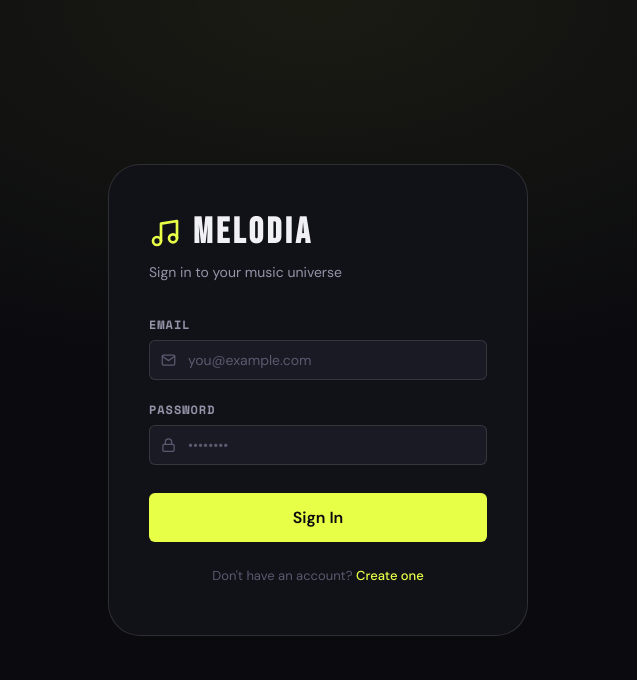
it: LoginPage › shows validation errors on empty submit
Click the button "Sign In".
click(318, 518)  # box [149,493,487,542]
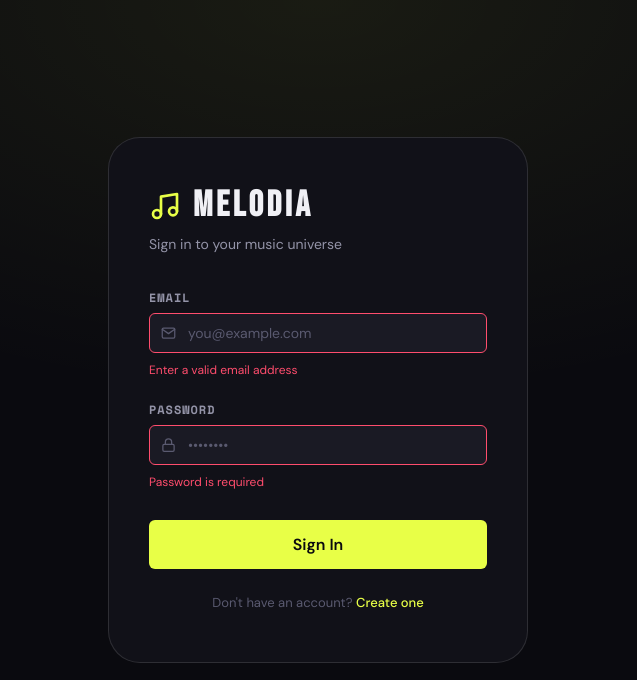
Expected: the text "Enter a valid email address" is shown, [149,362,298,378]
Expected: the text "Password is required" is shown, [149,474,264,490]
